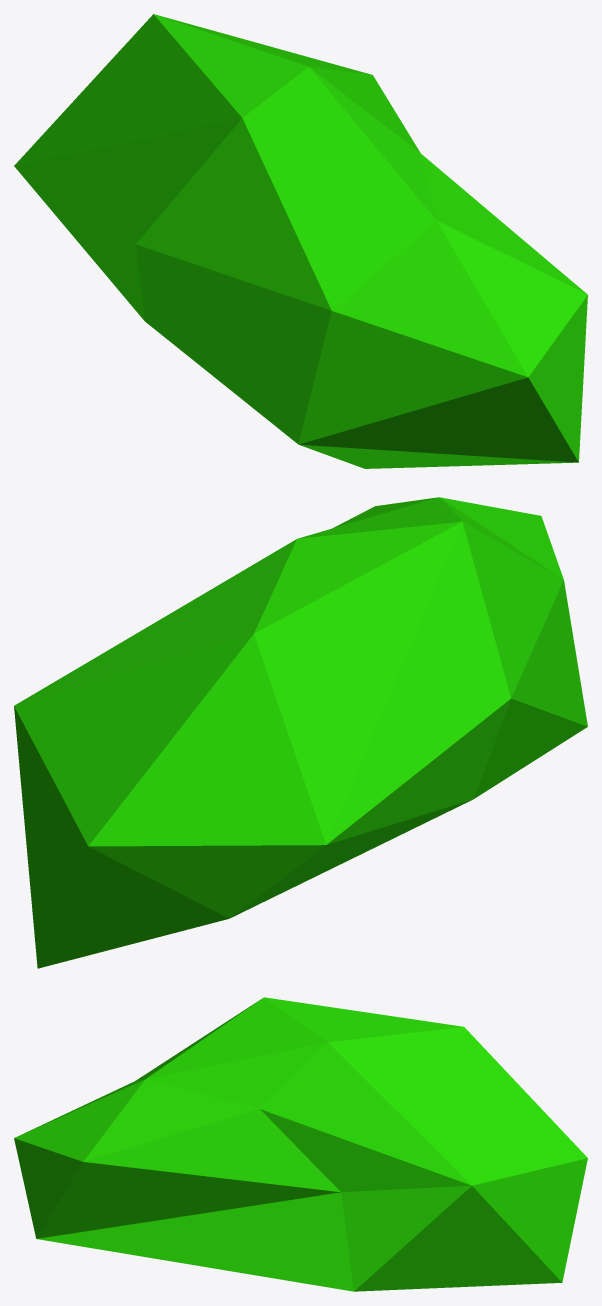
File: Bush#2.fbx
The picture shows the model from 3 angles, top to bottom: view 1: azimuth 30°, elevation 25°; view 2: azimuth 150°, elevation 25°; view 3: azimuth 270°, elevation 25°; orthographic projection. The views are drawn at different scales.
Parts seen in each view (by area): view 1: Bush#2; view 2: Bush#2; view 3: Bush#2.
Boxes of the visible parts, left/top/right/bottom form: Bush#2: left=14, top=14, right=587, bottom=468; Bush#2: left=14, top=497, right=587, bottom=968; Bush#2: left=14, top=997, right=587, bottom=1291.
Size of the model in its own units: 206 by 173 by 401.
